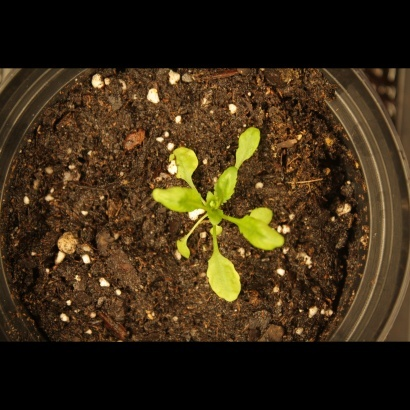leaf: (201, 247, 247, 307), (234, 216, 288, 253), (146, 180, 202, 215), (161, 146, 206, 183), (234, 121, 264, 167), (212, 162, 241, 206), (168, 232, 197, 265), (250, 201, 275, 228), (203, 206, 226, 229)
